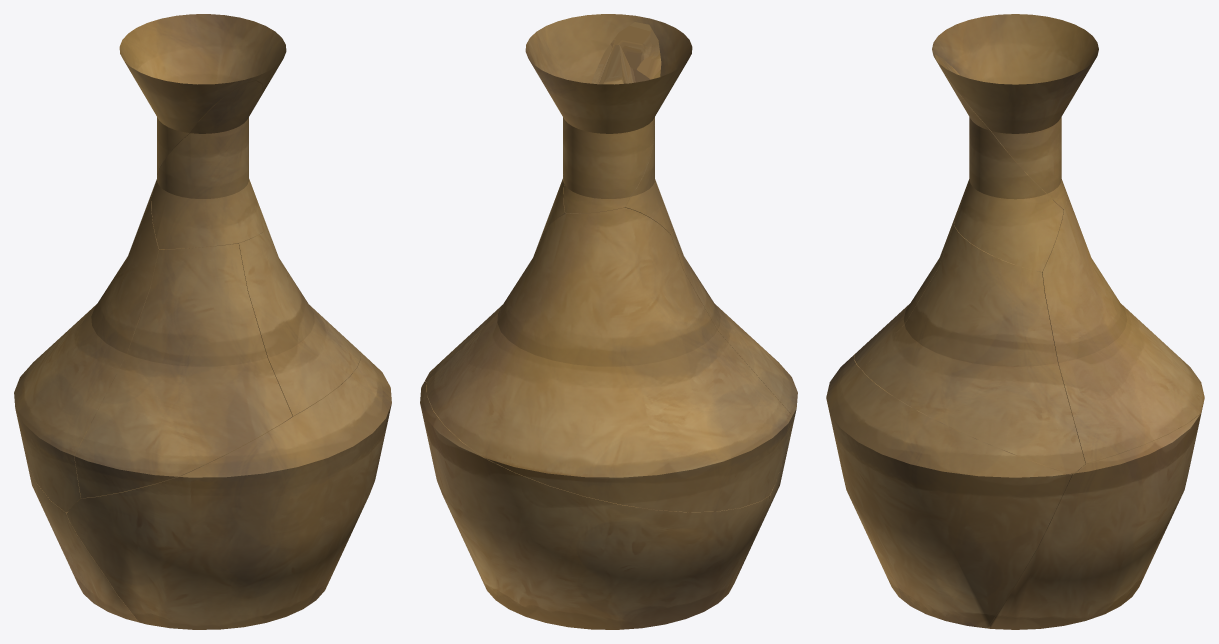
Rendered from break_vase.glb.
The picture shows the model from 3 angles, left to right: view 1: azimuth 30°, elevation 25°; view 2: azimuth 150°, elevation 25°; view 3: azimuth 270°, elevation 25°; orthographic projection.
Visible parts, largest first — view 1: Vase_low_poly_cell.004, Vase_low_poly_cell.002, Vase_low_poly_cell.003, Vase_low_poly_cell.001, Vase_low_poly_cell.005, Vase_low_poly_cell.006, Vase_low_poly_cell; view 2: Vase_low_poly_cell.003, Vase_low_poly_cell, Vase_low_poly_cell.001, Vase_low_poly_cell.002, Vase_low_poly_cell.005, Vase_low_poly_cell.006; view 3: Vase_low_poly_cell.004, Vase_low_poly_cell.006, Vase_low_poly_cell, Vase_low_poly_cell.003, Vase_low_poly_cell.001, Vase_low_poly_cell.005, Vase_low_poly_cell.002.
Boxes of the visible parts, x1,y1,x2,y2 form: Vase_low_poly_cell.004: (66,348,391,629); Vase_low_poly_cell.002: (74,243,292,498); Vase_low_poly_cell.003: (14,190,160,512); Vase_low_poly_cell.001: (119,14,286,179); Vase_low_poly_cell.005: (151,81,266,248); Vase_low_poly_cell.006: (238,226,360,415); Vase_low_poly_cell: (27,462,138,622); Vase_low_poly_cell.003: (426,207,792,512); Vase_low_poly_cell: (420,382,769,629); Vase_low_poly_cell.001: (525,14,692,213); Vase_low_poly_cell.002: (671,224,797,458); Vase_low_poly_cell.005: (540,125,672,239); Vase_low_poly_cell.006: (424,258,532,381); Vase_low_poly_cell.004: (826,354,1071,628); Vase_low_poly_cell.006: (862,225,1085,474); Vase_low_poly_cell: (987,409,1202,629); Vase_low_poly_cell.003: (1042,191,1204,463); Vase_low_poly_cell.001: (932,14,1098,208); Vase_low_poly_cell.005: (938,64,1063,271); Vase_low_poly_cell.002: (854,217,954,369).
Bounding box in the file's own units: 2.2 × 3.37 × 2.2.
1 material, 1 textured.
